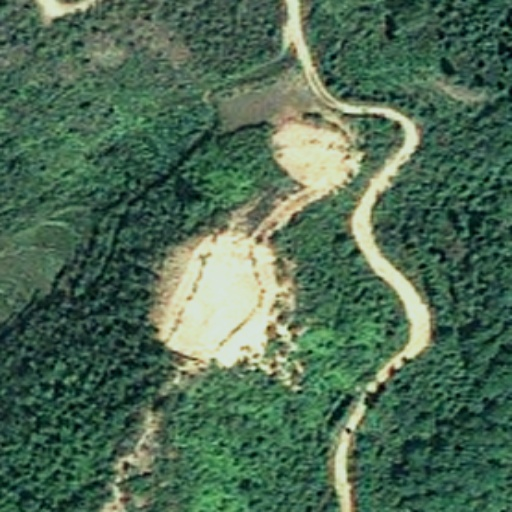landslide: (155, 230, 289, 366), (271, 110, 357, 195)
